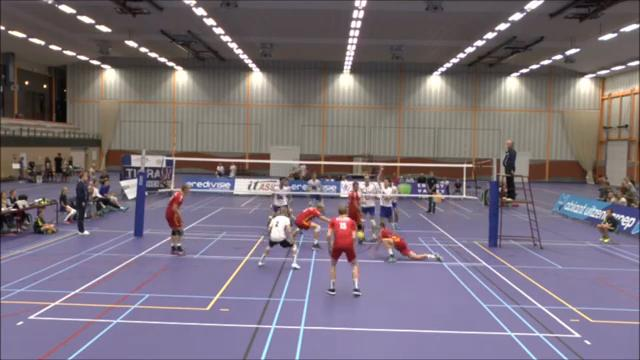difesa: (357, 220, 444, 266)
